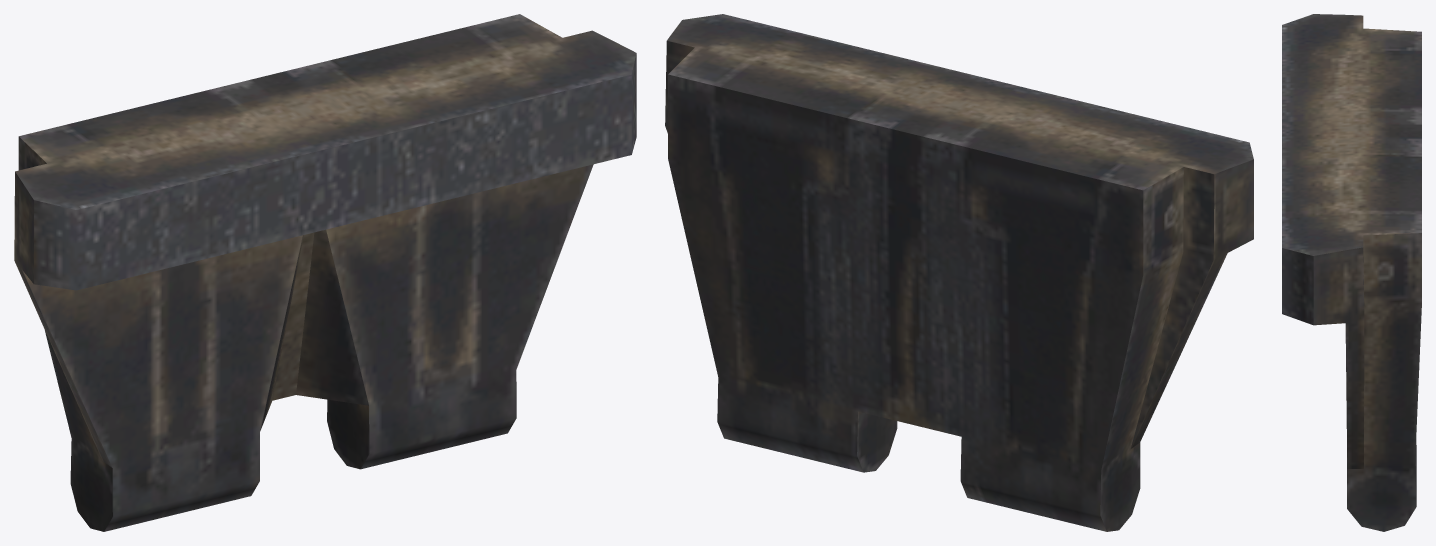
3 views of the same model, side by side, from view 1: azimuth 30°, elevation 25°; view 2: azimuth 150°, elevation 25°; view 3: azimuth 270°, elevation 25° (orthographic). The views are drawn at different scales.
Parts seen in each view (by area): view 1: set_0_group_0; view 2: set_0_group_0; view 3: set_0_group_0.
Boxes of the visible parts, x1=… form: set_0_group_0: x1=14, y1=14, x2=636, y2=531; set_0_group_0: x1=665, y1=14, x2=1253, y2=531; set_0_group_0: x1=1282, y1=14, x2=1421, y2=531.
Bounding box in the file's own units: 0.2685 × 0.165 × 0.0656.
Materials: 1 (1 with a texture image).
